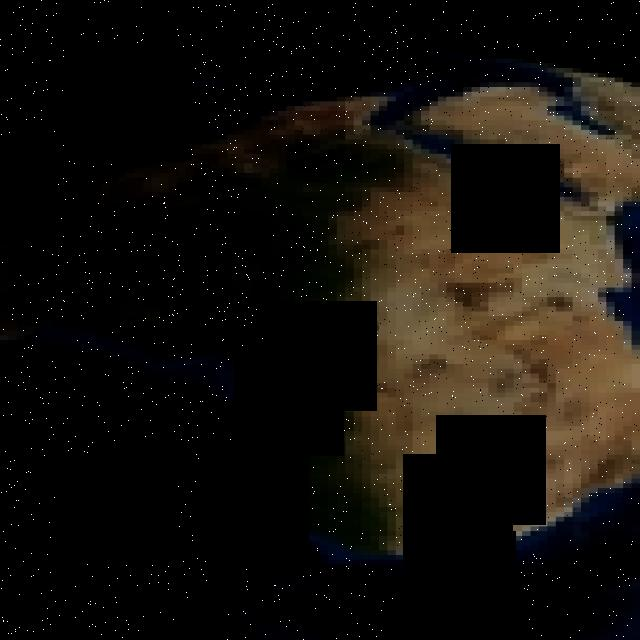Earth: (0, 58, 640, 640)
